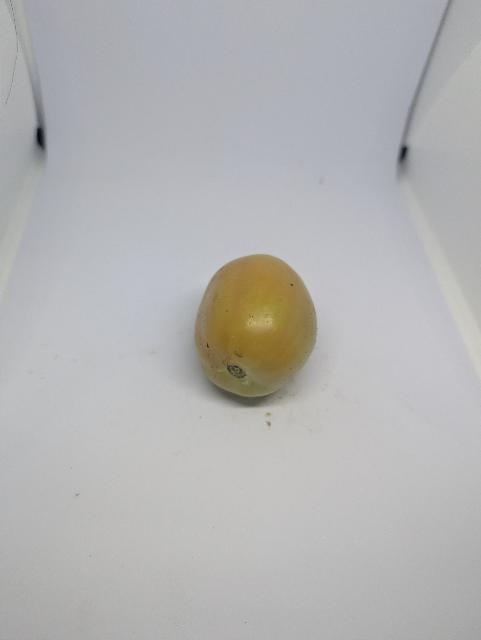breaker: (191, 251, 319, 403)
